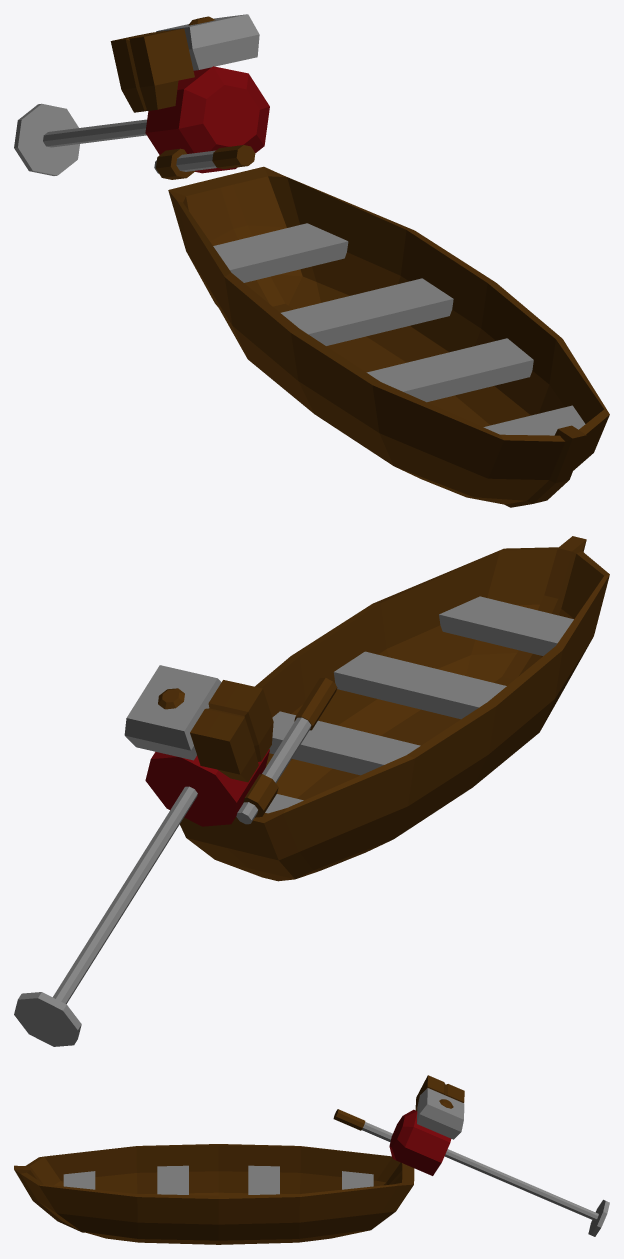
Rendered from 14.06_Bubuia_canoa1-0.fbx.
The picture shows the model from 3 angles, top to bottom: view 1: azimuth 30°, elevation 25°; view 2: azimuth 150°, elevation 25°; view 3: azimuth 270°, elevation 25°; orthographic projection. The views are drawn at different scales.
Parts seen in each view (by area): view 1: Cube; view 2: Cube; view 3: Cube.
Part boxes in pixels (left/top/right/bottom): Cube: left=14, top=14, right=609, bottom=507; Cube: left=14, top=536, right=609, bottom=1046; Cube: left=14, top=1075, right=609, bottom=1244.
Bounding box in the file's own units: 4.5 × 5.51 × 20.55.
